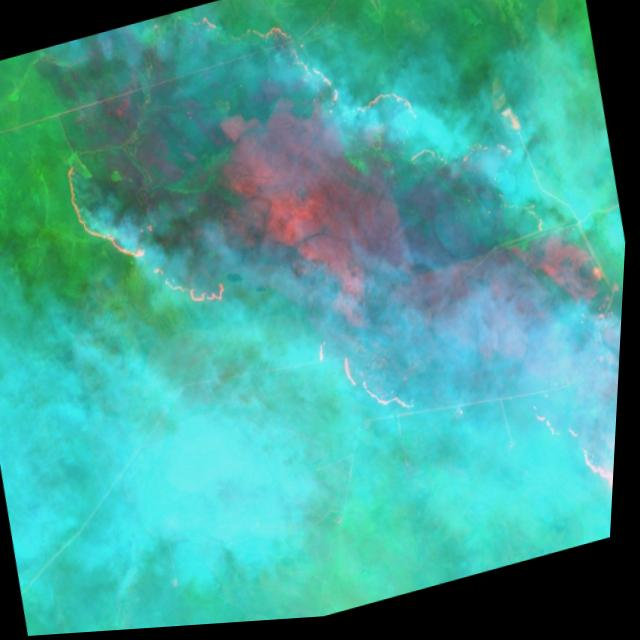fire: (18, 0, 640, 638)
